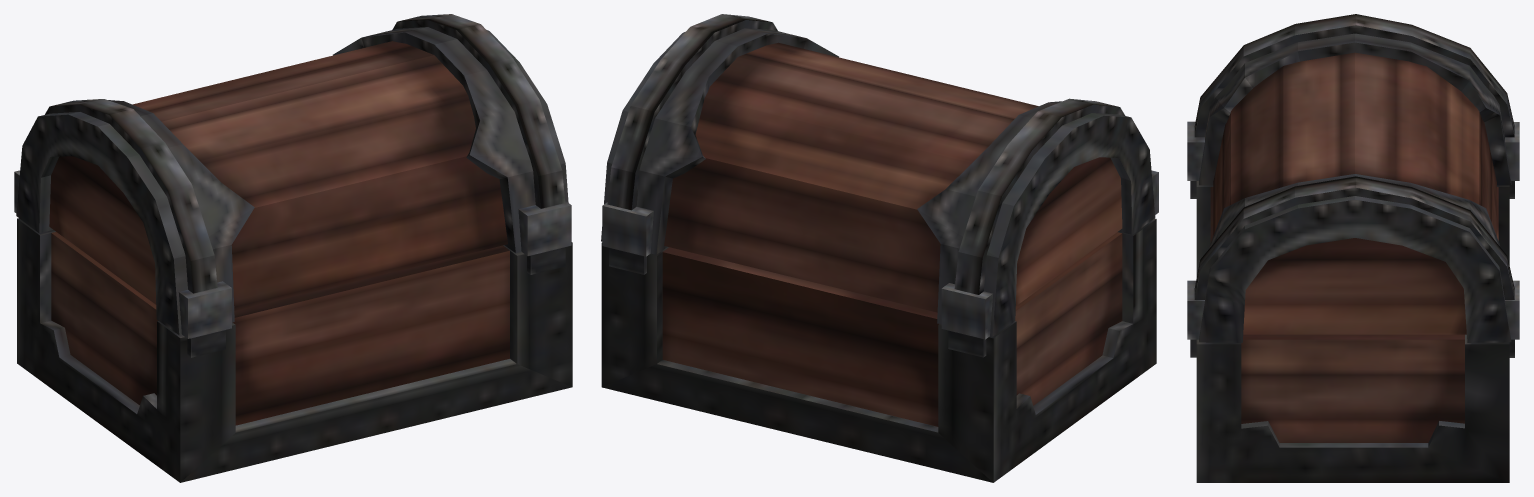
The model's file is Scene_Rongyan_baoxiang.FBX.
The picture shows the model from 3 angles, left to right: view 1: azimuth 30°, elevation 25°; view 2: azimuth 150°, elevation 25°; view 3: azimuth 270°, elevation 25°; orthographic projection. The views are drawn at different scales.
Parts seen in each view (by area): view 1: Scene_Rongyan_baoxiang; view 2: Scene_Rongyan_baoxiang; view 3: Scene_Rongyan_baoxiang.
Part boxes in pixels (x1=…): Scene_Rongyan_baoxiang: x1=14, y1=14, x2=572, y2=482; Scene_Rongyan_baoxiang: x1=601, y1=14, x2=1158, y2=482; Scene_Rongyan_baoxiang: x1=1187, y1=14, x2=1519, y2=482.
Bounding box in the file's own units: 2.68 × 1.99 × 2.06.
